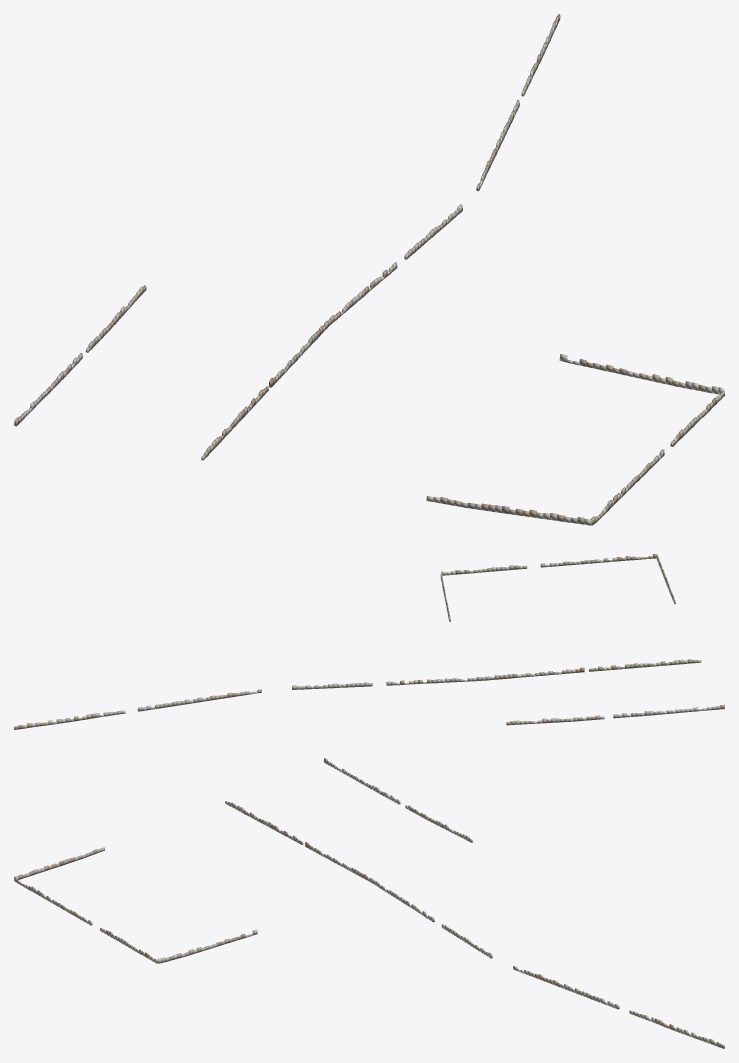
Rendered from farm_28_16_collision.glb.
3 views of the same model, one above another, from view 1: azimuth 30°, elevation 25°; view 2: azimuth 150°, elevation 25°; view 3: azimuth 270°, elevation 25° (orthographic). The views are drawn at different scales.
Visible parts, largest first — view 1: geometry_0; view 2: geometry_0; view 3: geometry_0.
Boxes of the visible parts, x1,y1,x2,y2 form: geometry_0: [14, 14, 724, 525]; geometry_0: [14, 554, 724, 729]; geometry_0: [14, 758, 724, 1048].
Size of the model in its own units: 212 by 6.17 by 233.
